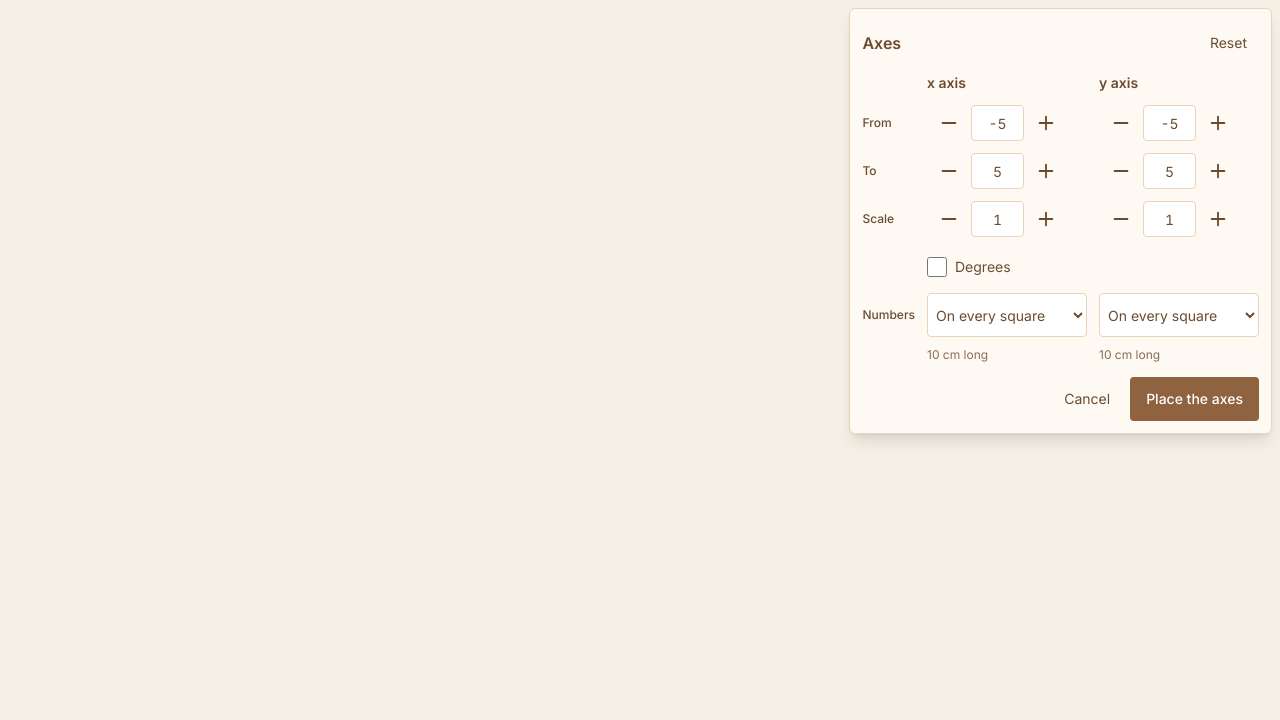
Test: AxesPanel › rounds a typed end to a whole number of squares once Enter is pressed
The width and height of the screenshot is (1280, 720).
Replace the text in the 2nd field named "From" with "-7.4": {"x": 1170, "y": 123} [1143,105,1196,141]
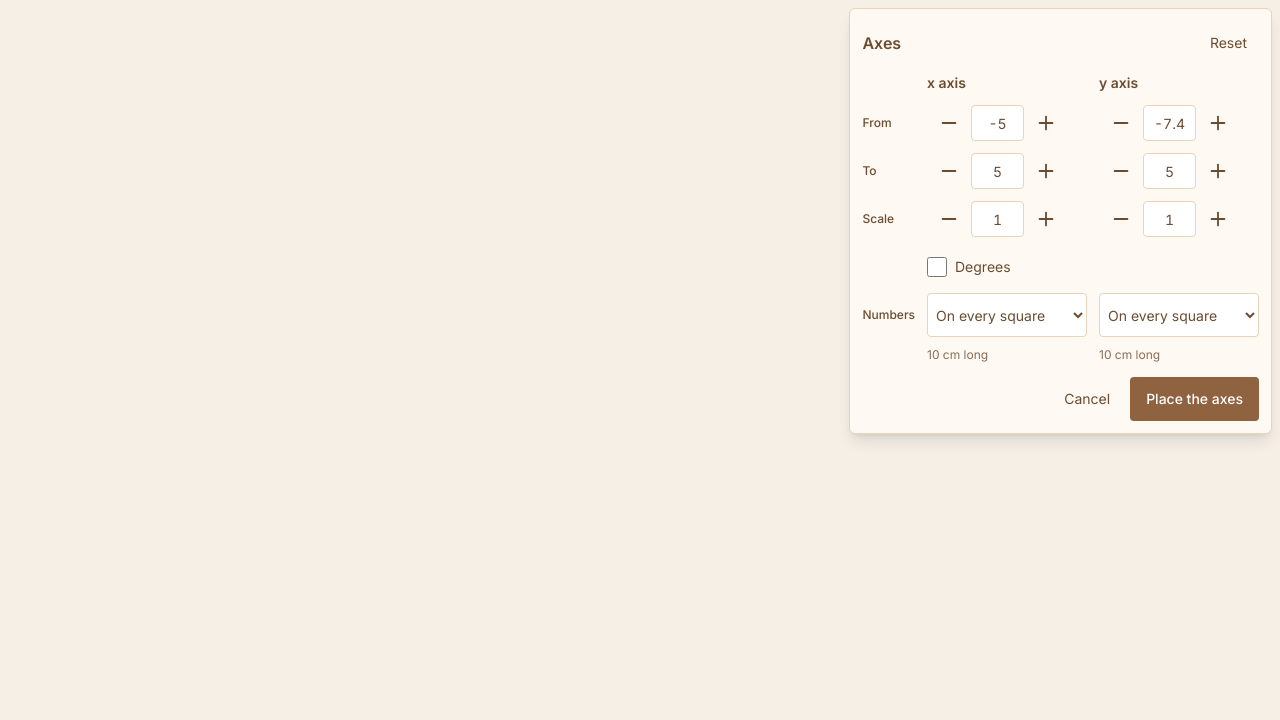
Press Enter in the 2nd field named "From", box [1143,105,1196,141]
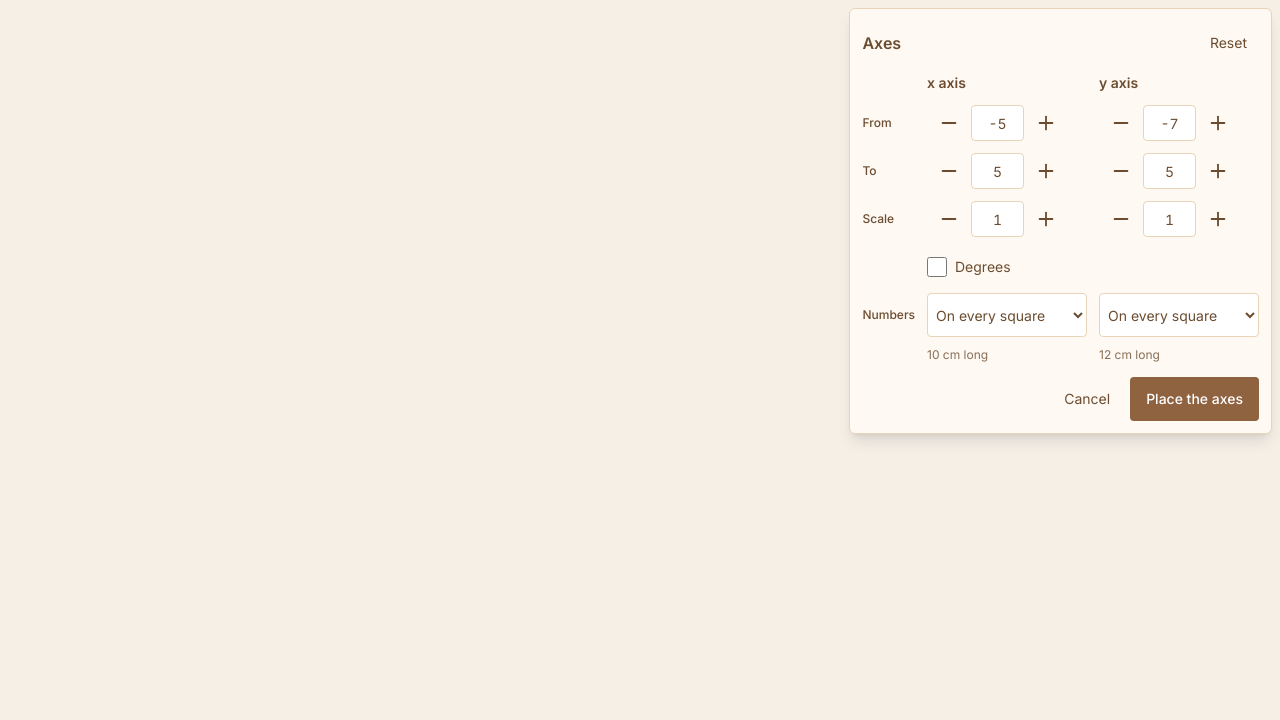
Expected: the 2nd field named "From" holds "-7", [1143,105,1196,141]
# A typed scale goes to the nearest one on the list, and what isn't a number is forgotten.
Replace the text in the 2nd field named "Scale" with "3": {"x": 1170, "y": 219} [1143,201,1196,237]
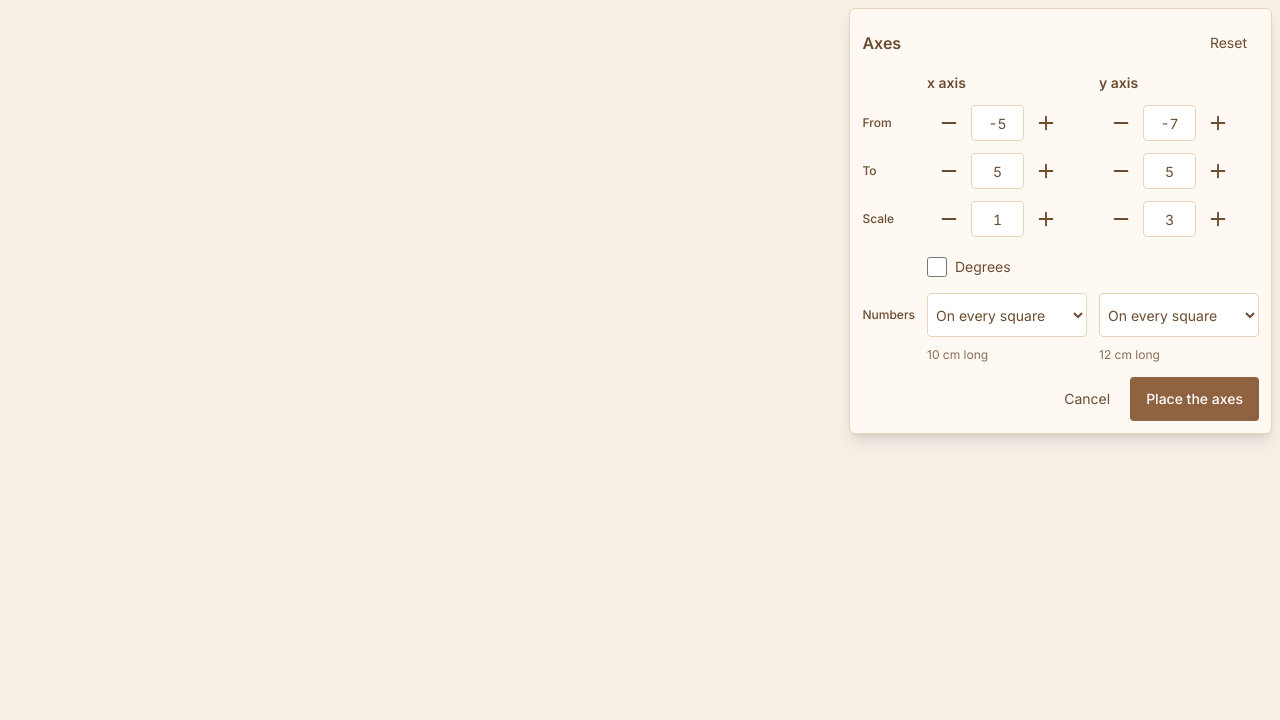
Leave the 2nd field named "Scale", box [1143,201,1196,237]
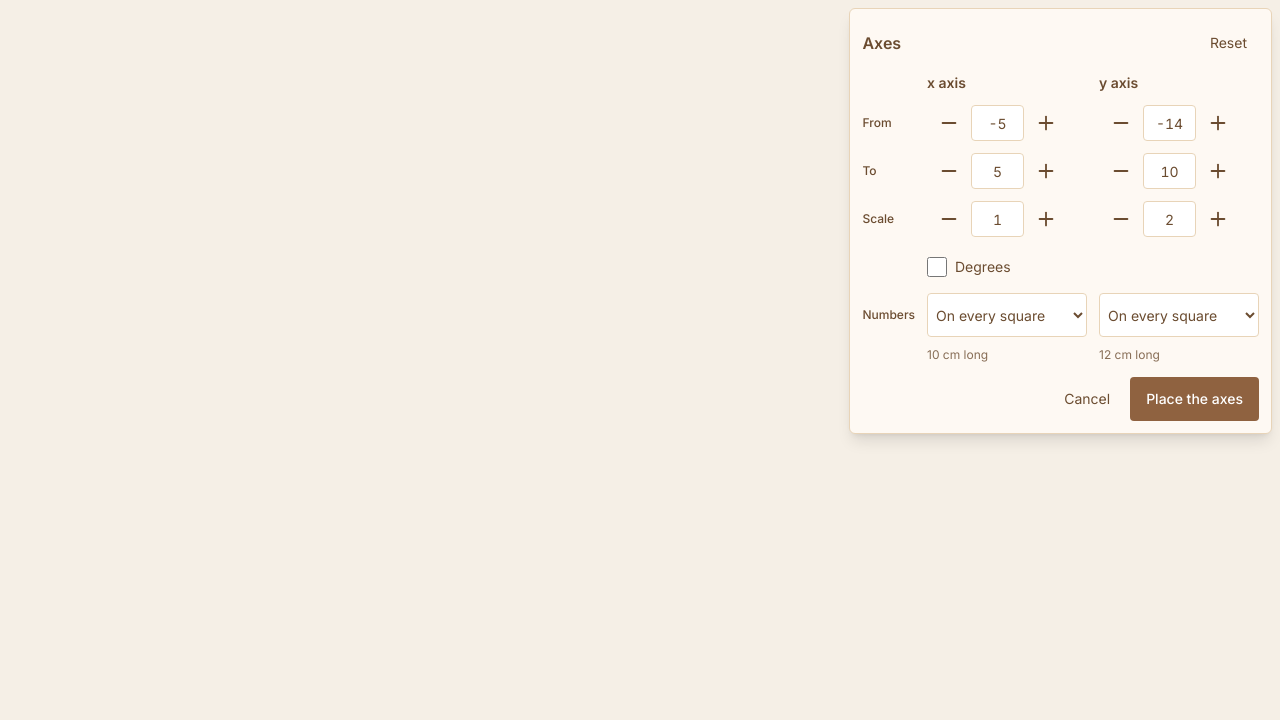
Expected: the 2nd field named "Scale" holds "2"
Replace the text in the 2nd field named "Scale" with "lots": {"x": 1170, "y": 219} [1143,201,1196,237]
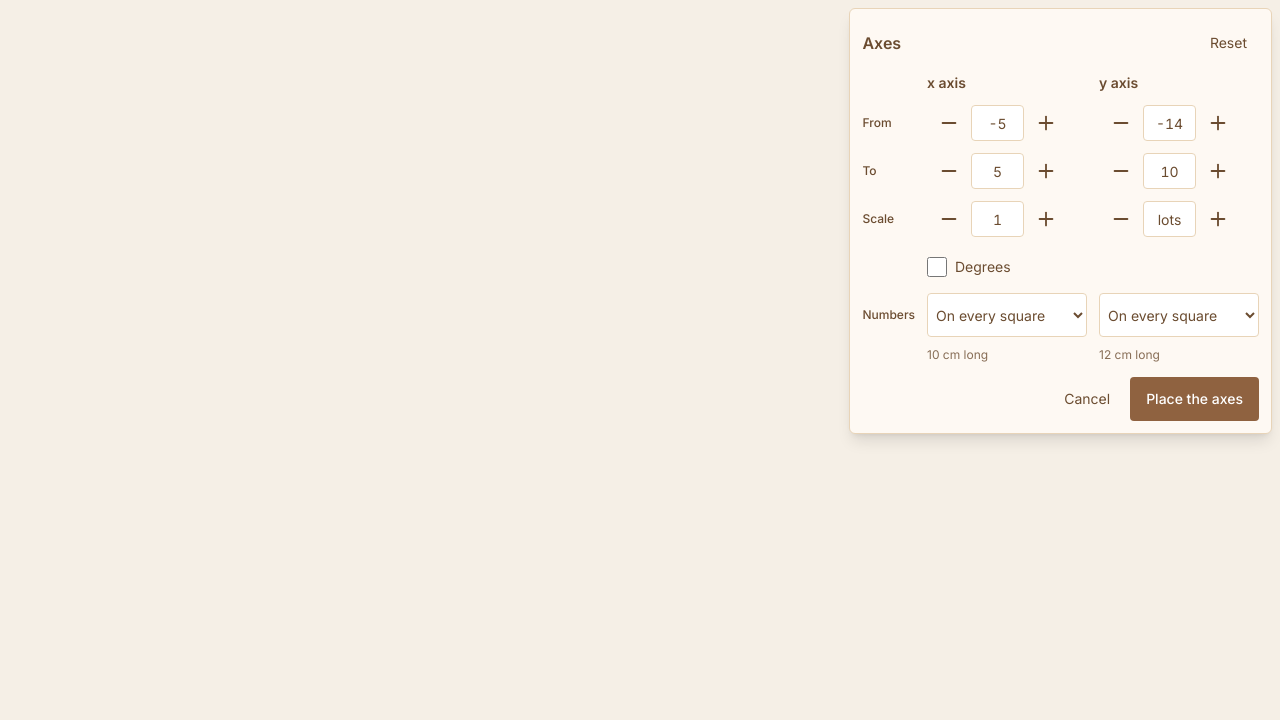
Leave the 2nd field named "Scale", box [1143,201,1196,237]
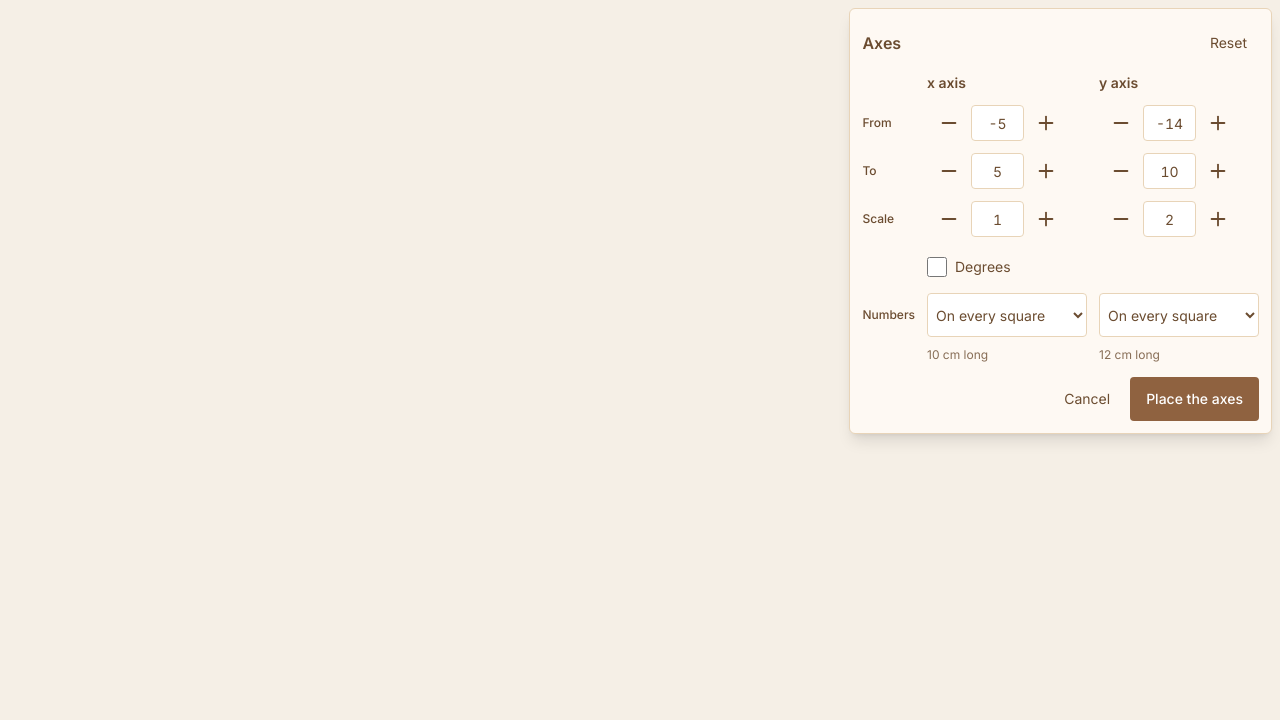
Expected: the 2nd field named "Scale" holds "2", [1143,201,1196,237]
